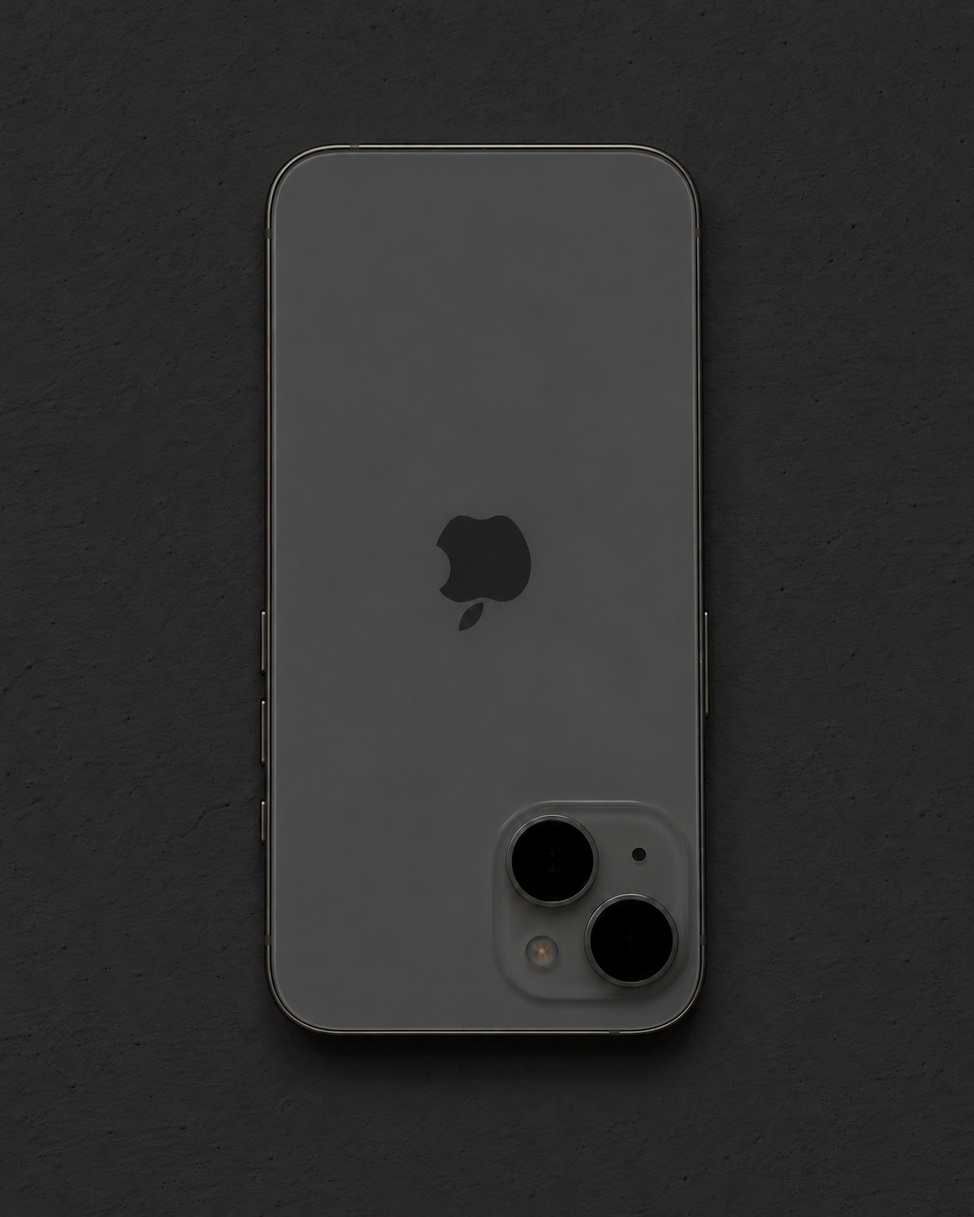iphone_14_white: (199, 102, 771, 1087), (478, 788, 699, 1014)
